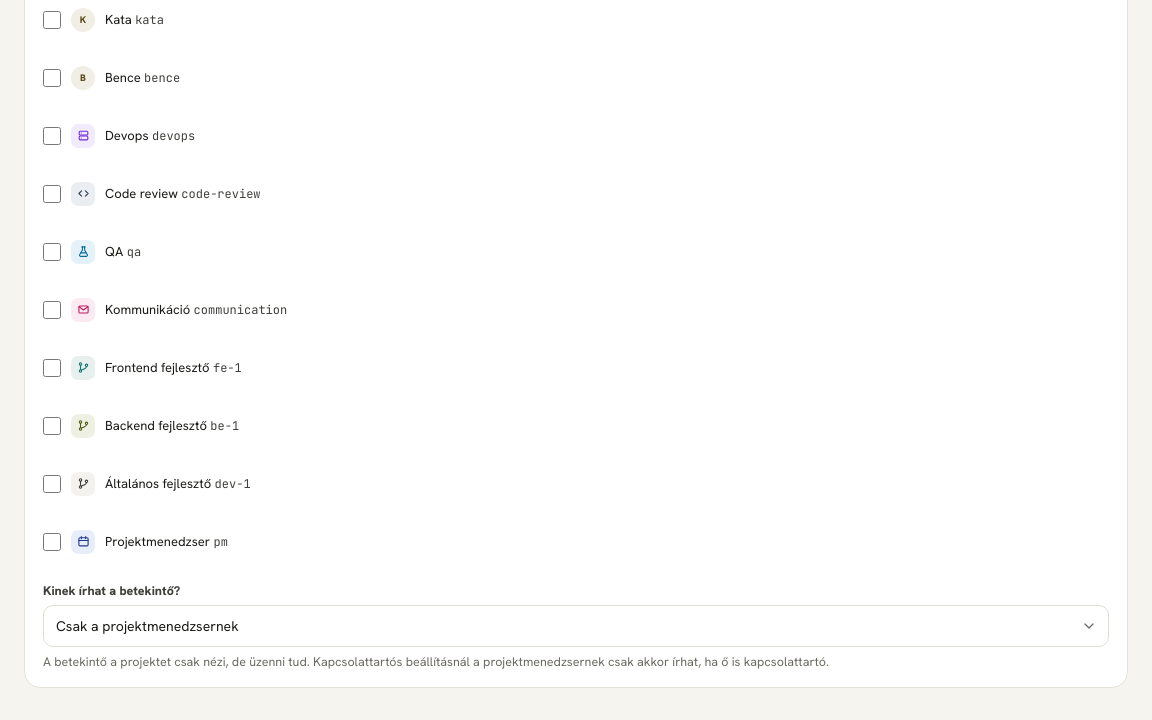
settings section editors › the contacts › puts the tick back and says why when the server refuses the change
The image size is (1152, 720).
(page scrolled)
Click the checkbox labelled "Frontend fejlesztő fe-1". click: click(52, 368)
box: [43, 359, 61, 377]
(page scrolled)
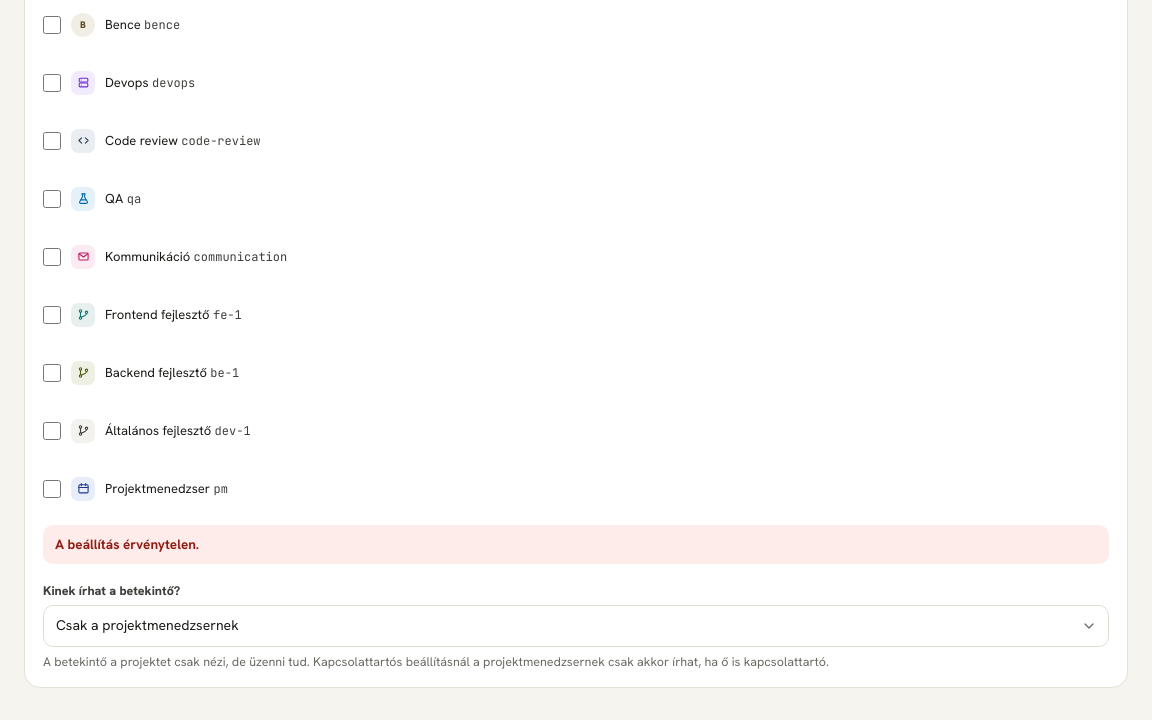
Check: the message "A beállítás érvénytelen." is shown, box [43, 525, 1109, 564]
